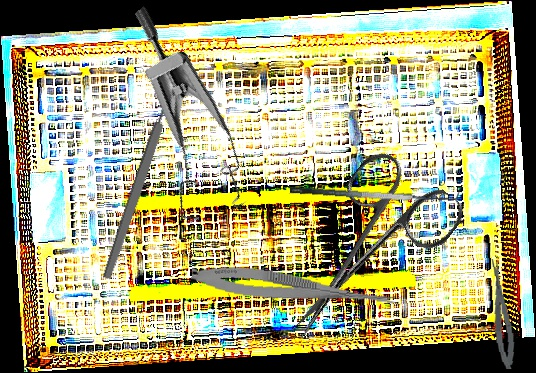Iris Scissors: (257, 140, 470, 368)
Micro Scissor: (190, 261, 403, 313), (487, 257, 518, 371)
Spatula Surgical: (289, 171, 461, 210)
Speculum: (61, 4, 285, 241)
Surgical Spoon: (99, 53, 190, 282)
